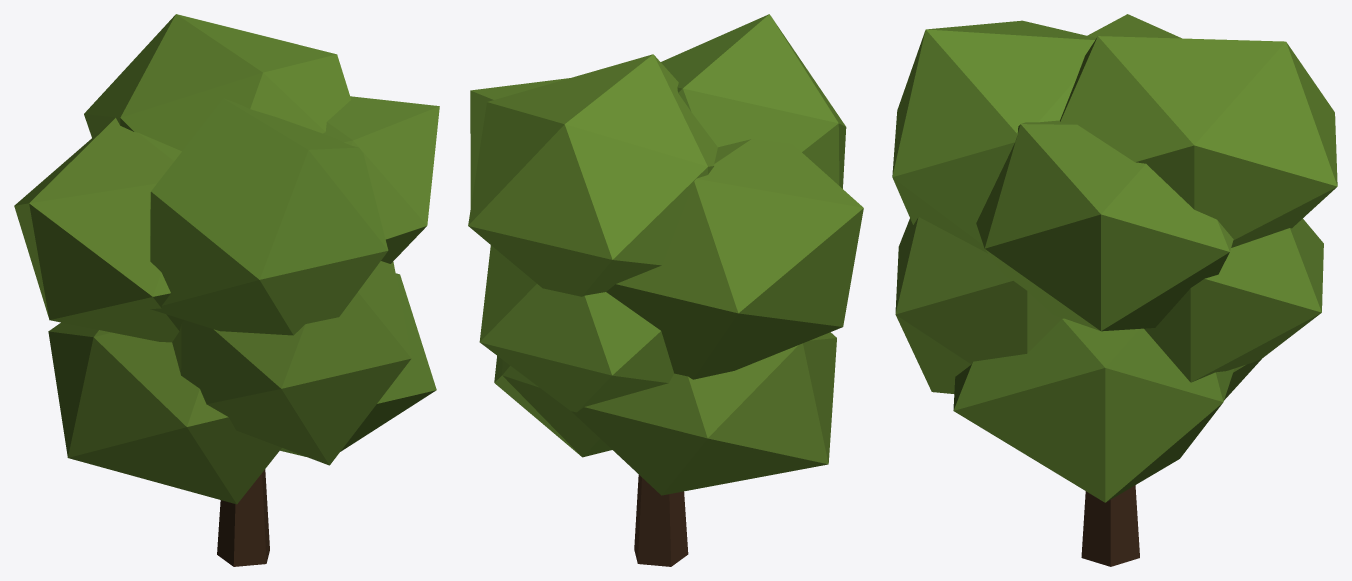
Rendered from tree_birch.glb.
The picture shows the model from 3 angles, left to right: view 1: azimuth 30°, elevation 25°; view 2: azimuth 150°, elevation 25°; view 3: azimuth 270°, elevation 25°; orthographic projection. The views are drawn at different scales.
Visible parts, largest first — view 1: tree_photo_airy; view 2: tree_photo_airy; view 3: tree_photo_airy.
Part boxes in pixels (x1,y1,x2,y2): tree_photo_airy: (14, 14, 439, 566); tree_photo_airy: (468, 14, 863, 566); tree_photo_airy: (892, 14, 1337, 566).
Bounding box in the file's own units: 0.5643 × 0.6561 × 0.5053.
